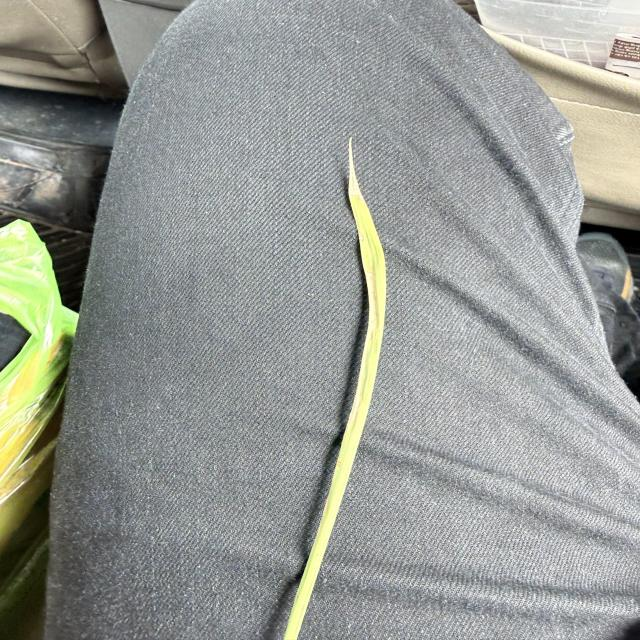Chay bia la: (344, 270, 376, 431), (346, 135, 364, 197)
